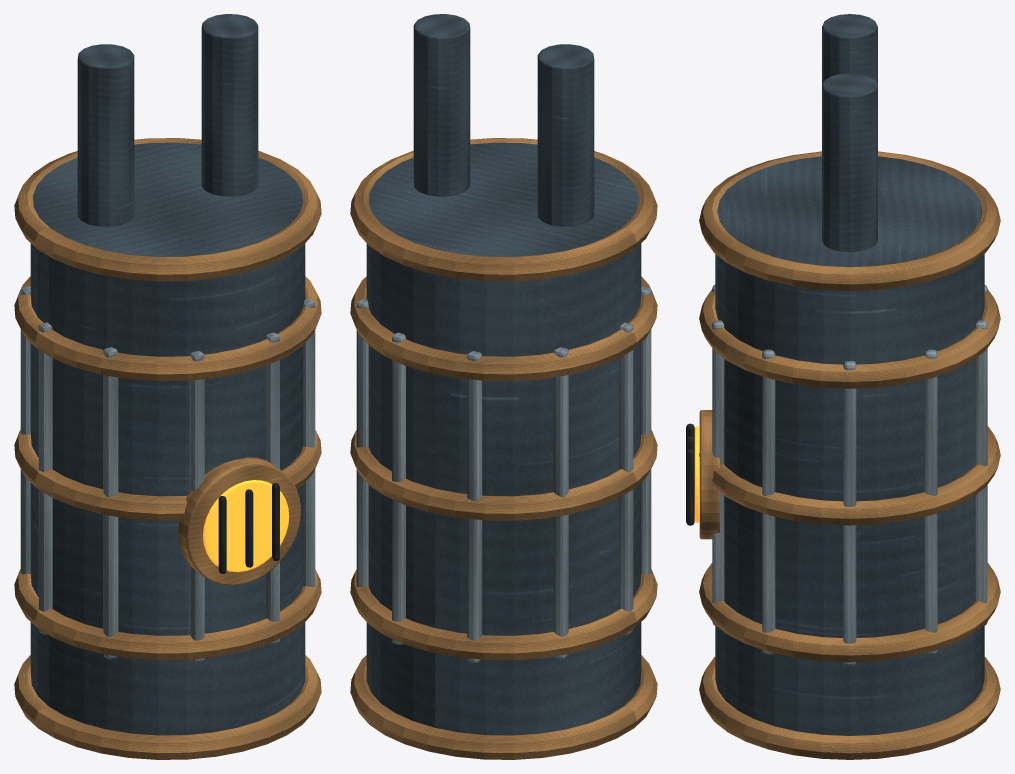
Rendered from reactor.glb.
3 renders of one model, left to right at view 1: azimuth 30°, elevation 25°; view 2: azimuth 150°, elevation 25°; view 3: azimuth 270°, elevation 25°, orthographic. The views are drawn at different scales.
Parts seen in each view (by area): view 1: reactor; view 2: reactor; view 3: reactor.
Part boxes in pixels (box(x1,y1,x2,y2)): reactor: box(14, 14, 321, 759); reactor: box(350, 14, 657, 759); reactor: box(686, 14, 1000, 759).
Bounding box in the file's own units: 2.8 × 6.62 × 2.92.
5 materials, 4 textured.
